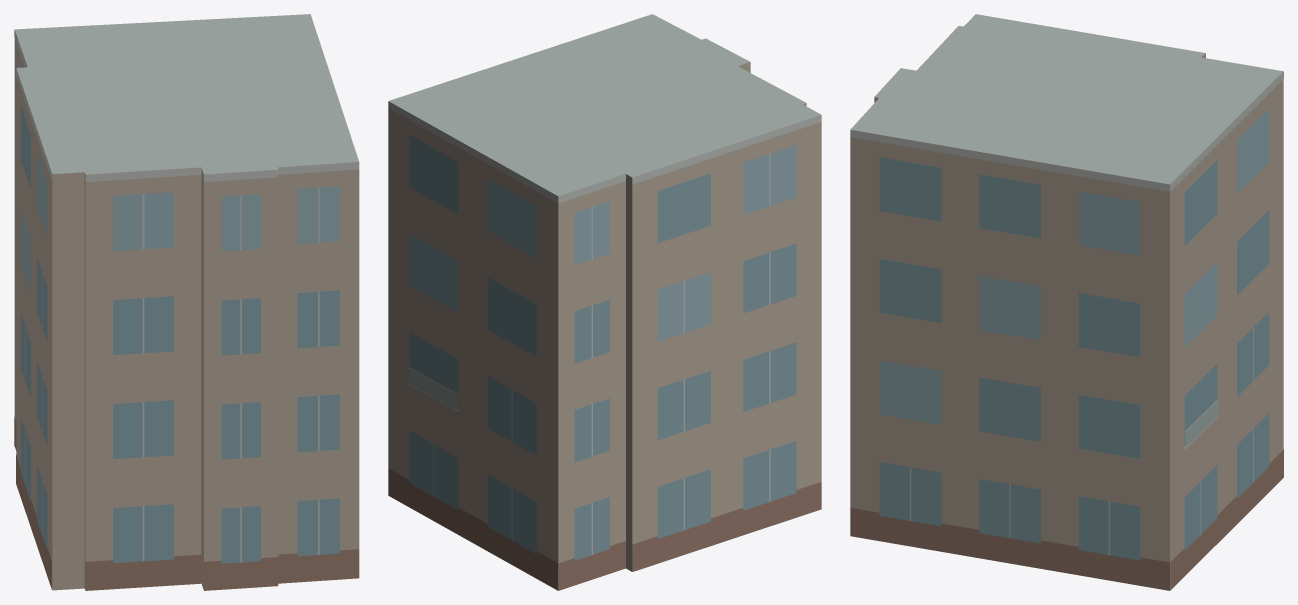
The model's file is survey-upis-32653912.glb.
3 renders of one model, left to right at view 1: azimuth 30°, elevation 25°; view 2: azimuth 150°, elevation 25°; view 3: azimuth 270°, elevation 25°, orthographic. The views are drawn at different scales.
Visible parts, largest first — view 1: survey-upis-32653912.tmp; view 2: survey-upis-32653912.tmp; view 3: survey-upis-32653912.tmp.
Part boxes in pixels (<box>): survey-upis-32653912.tmp: <box>14,14,359,590</box>; survey-upis-32653912.tmp: <box>388,14,821,590</box>; survey-upis-32653912.tmp: <box>850,14,1283,590</box>.
Size of the model in its own units: 12.16 by 13.5 by 13.06.
